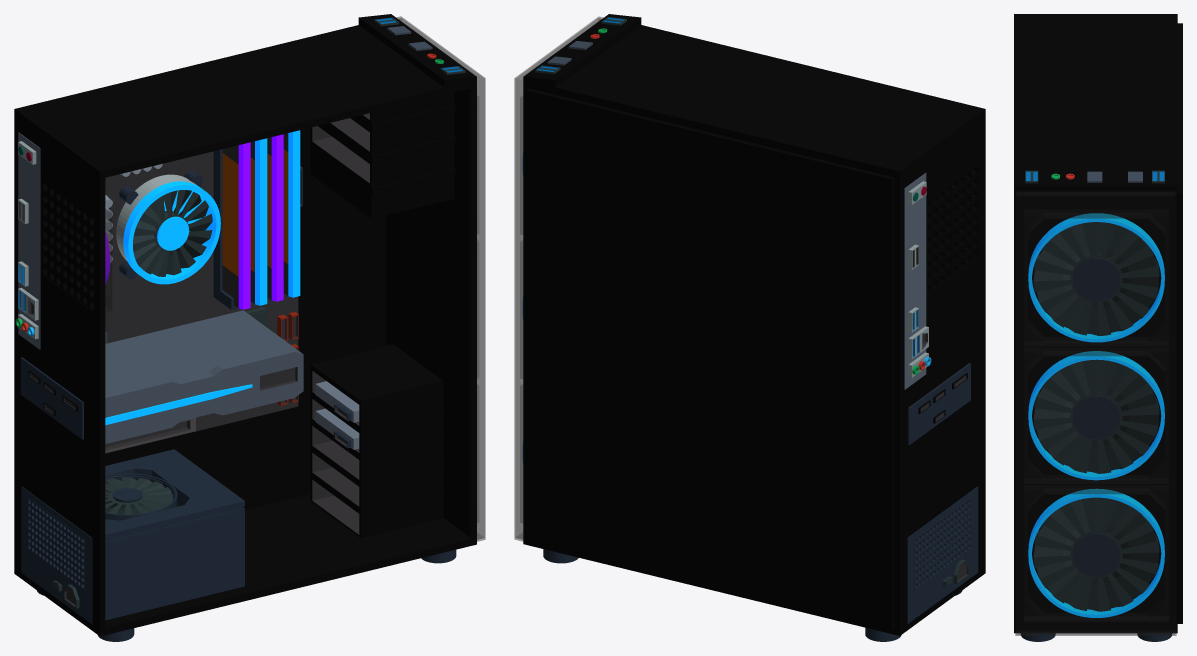
3 views of the same model, side by side, from view 1: azimuth 30°, elevation 25°; view 2: azimuth 150°, elevation 25°; view 3: azimuth 270°, elevation 25° (orthographic). The views are drawn at different scales.
Parts seen in each view (by area): view 1: Cube.145, Cube.126, Cube.149, Cube.137, Cube.125, Cube.078, Cube.147, Plane.005, Gear.018, Cylinder.057, Cube.146, Cube.108 (+20 smaller); view 2: Cube.145, Plane.005, Cube.147, Cube.146, Cube.149, Cube.142, Plane.009, Plane.008; view 3: Cube.147, Cube.145, Gear.015, Gear.014, Gear.013, Cube.136, Cube.134, Cube.135, Cylinder.052, Cylinder.054, Cylinder.053, Cylinder.063 (+4 smaller).
Boxes of the visible parts, x1,y1,x2,y2 form: Cube.145: [14, 14, 476, 636]; Cube.126: [310, 344, 443, 537]; Cube.149: [21, 449, 244, 623]; Cube.137: [105, 310, 303, 443]; Cube.125: [310, 92, 455, 218]; Cube.078: [105, 151, 298, 453]; Cube.147: [386, 16, 485, 541]; Plane.005: [42, 181, 93, 311]; Gear.018: [133, 190, 212, 276]; Cylinder.057: [123, 181, 220, 284]; Cube.146: [18, 132, 40, 349]; Cube.108: [222, 145, 238, 307]; Cube.145: [523, 14, 985, 635]; Plane.005: [926, 165, 978, 296]; Cube.147: [514, 16, 603, 541]; Cube.146: [904, 173, 926, 389]; Cube.149: [907, 486, 978, 623]; Cube.142: [908, 363, 970, 445]; Plane.009: [943, 497, 971, 569]; Plane.008: [914, 518, 942, 590]; Cube.147: [1015, 191, 1176, 635]; Cube.145: [1014, 14, 1182, 633]; Gear.015: [1033, 497, 1159, 611]; Gear.014: [1033, 359, 1159, 473]; Gear.013: [1033, 222, 1159, 335]; Cube.136: [1024, 485, 1168, 621]; Cube.134: [1024, 210, 1168, 345]; Cube.135: [1024, 348, 1168, 483]; Cylinder.052: [1028, 213, 1164, 342]; Cylinder.054: [1028, 489, 1164, 617]; Cylinder.053: [1028, 351, 1164, 480]; Cylinder.063: [1072, 257, 1120, 301].
Size of the model in its own units: 855 by 1012 by 333.
4 materials, 1 textured.
